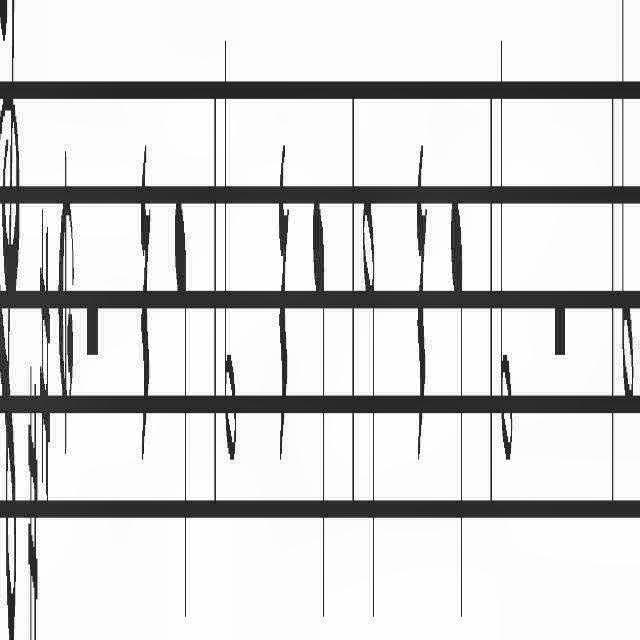Bass-clef: (1, 0, 23, 640)
Diez: (38, 198, 51, 524), (27, 360, 38, 640)
Half-note: (495, 0, 513, 500), (361, 179, 379, 631), (222, 21, 238, 507), (620, 1, 638, 432)
Quarter-note: (444, 134, 468, 640), (308, 140, 332, 640), (169, 163, 189, 640)
Quarter-rest: (408, 69, 432, 507), (274, 101, 294, 507), (135, 91, 153, 529)
